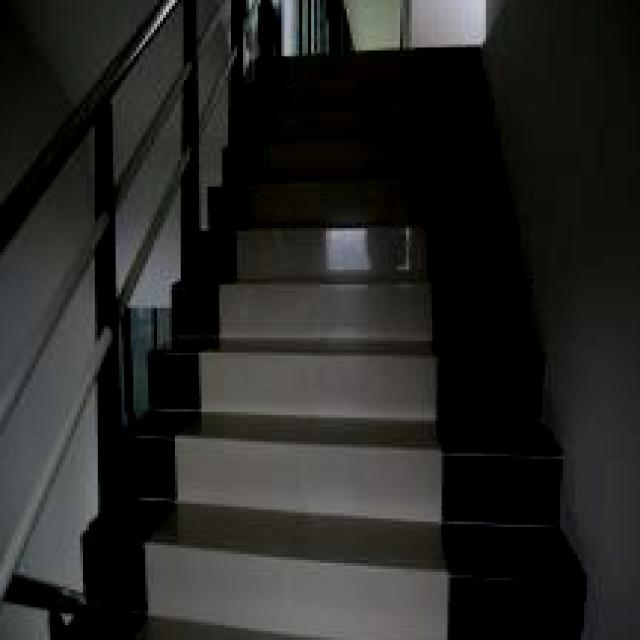upstair: (185, 158, 508, 605)
